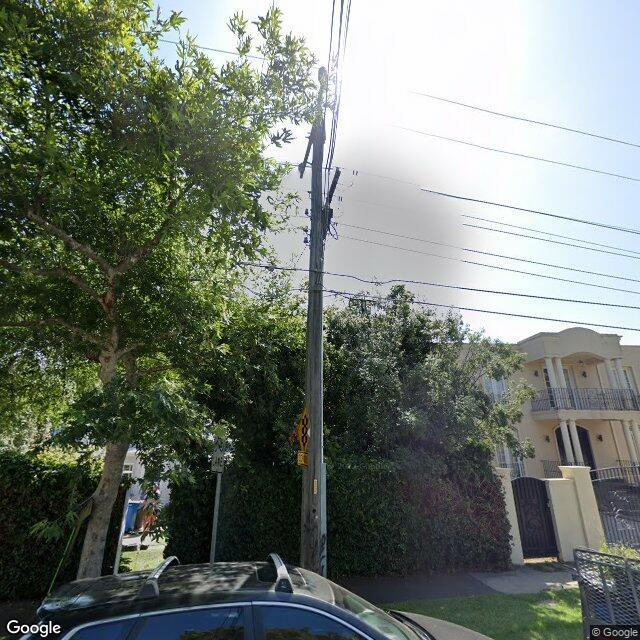HV-transmission: (298, 66, 326, 172)
crossarm: (300, 79, 326, 178), (322, 170, 341, 212)
timber-pole: (300, 118, 326, 579)
